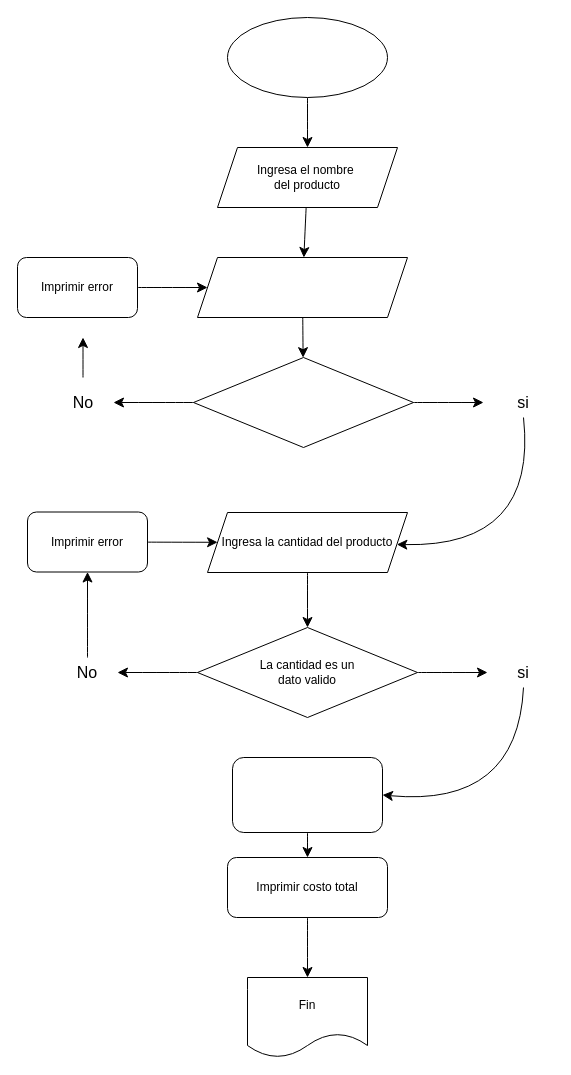
Some shapes in this 571 by 1075 pixel diagram are drawn without their labels. The centre of each missing label's shape, as x and y in pixels:
Calcular el costo total precio * cantidad: point (307, 794)
El precio es un dato valido: point (303, 402)
Ingresa el precio del producto: point (302, 287)
Inicio: point (307, 57)
